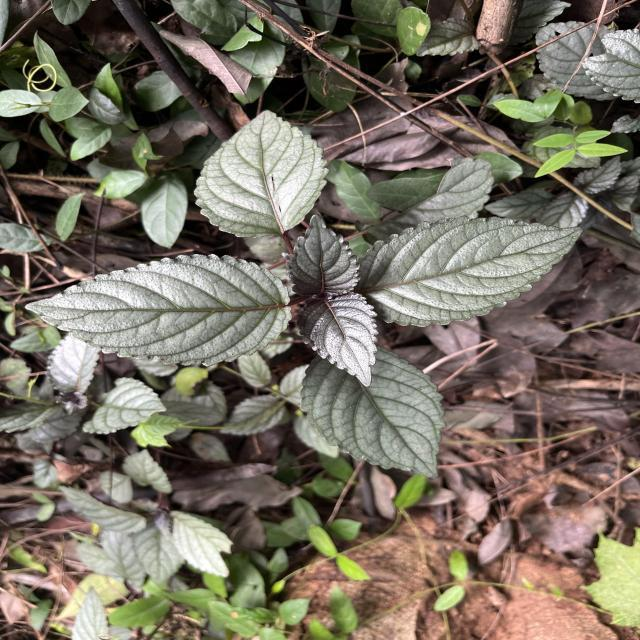Hemigraphis colorata: (19, 250, 298, 369), (357, 214, 587, 330), (297, 332, 449, 482), (192, 108, 332, 240), (292, 292, 384, 392), (283, 210, 365, 296)
